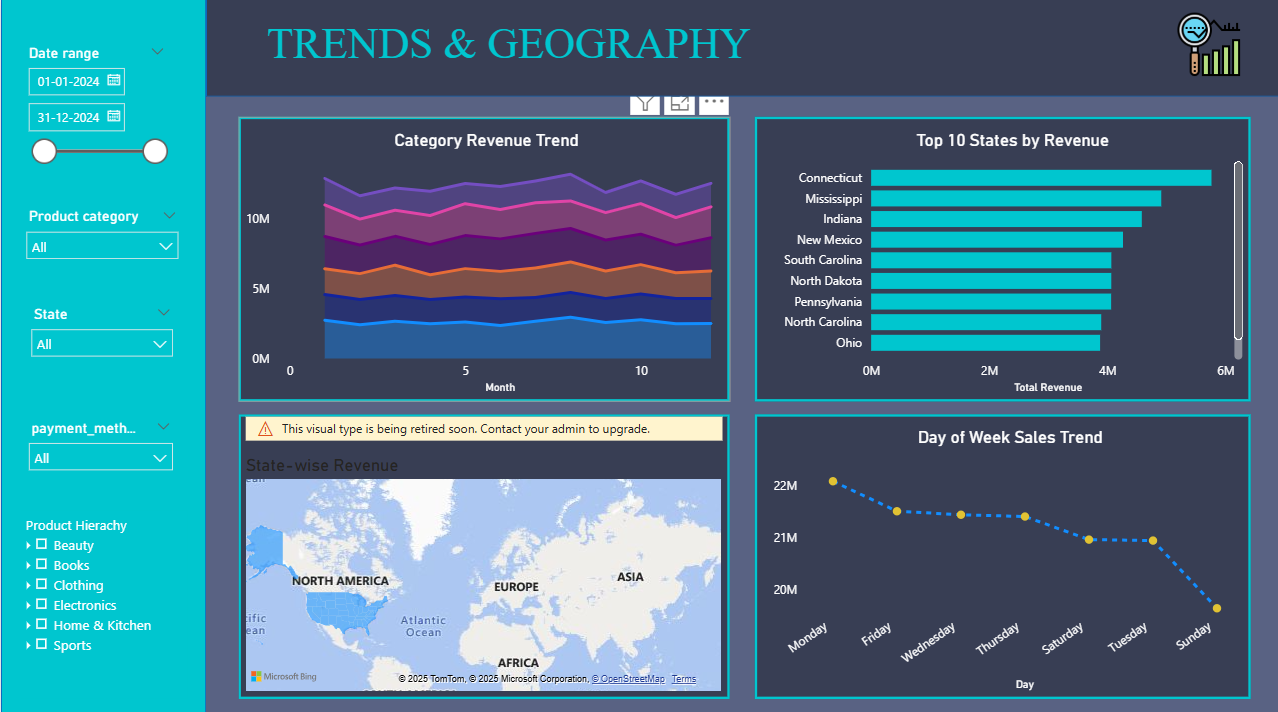

Layout of this report page (visuals, bound fields, positions):
{"tool":"powerbi","page":{"name":"Page 4","canvas":[1280,720],"ordinal":3},"visuals":[{"type":"shape","box":[0,0,205,720],"z":0},{"type":"textbox","box":[532.5,26.2,717.5,57.5],"z":1000},{"type":"filledMap","title":"State-wise Revenue","fields":{"Category":["warehouse dim_customers.state"],"Y":["warehouse fact_sales.Total Revenue"]},"box":[237.5,416.2,491.2,285],"z":2000},{"type":"clusteredBarChart","title":"Top 10 States by Revenue","fields":{"Category":["warehouse dim_customers.state"],"Y":["warehouse fact_sales.Total Revenue"]},"box":[753.8,118.8,496.2,285],"z":3000},{"type":"lineChart","title":"Day of Week Sales Trend","fields":{"Category":["warehouse dim_date.day_name"],"Y":["warehouse fact_sales.Total Revenue"]},"box":[753.8,416.2,496.2,285],"z":4000},{"type":"stackedAreaChart","title":"Category Revenue Trend","fields":{"Category":["warehouse dim_date.month"],"Series":["warehouse dim_products.category"],"Y":["warehouse fact_sales.Total Revenue"]},"box":[237.5,118.8,491.2,285],"z":5000},{"type":"slicer","title":"Date Range","fields":{"Values":["warehouse dim_date.full_date"]},"box":[14.5,41,160.5,155.6],"z":6000},{"type":"slicer","title":"State","fields":{"Values":["warehouse dim_customers.state"]},"box":[20.5,302.8,161.7,91.7],"z":7000},{"type":"slicer","title":"Product Category","fields":{"Values":["warehouse dim_products.category"]},"box":[14.5,205.1,172.5,112.2],"z":8000},{"type":"slicer","title":"Payment Method","fields":{"Values":["warehouse dim_payment_method.payment_method_name"]},"box":[18.1,416.2,164.1,96.5],"z":9000},{"type":"shape","box":[205,0,1075,98.8],"z":10000},{"type":"textbox","box":[228.8,16.2,792.5,67.5],"z":11000},{"type":"image","box":[1136.2,8.8,143.8,75],"z":12000},{"type":"HierarchySlicer1458836712039","fields":{"Fields":["warehouse dim_products.category","warehouse dim_products.sub_category","warehouse dim_products.product_name"]},"box":[20.5,512.7,166.5,188.2],"z":12001}]}

Visuals, with their boxes in screenshot pixels (x1, y1, x2, y2), scaled from the page's 1280x720 canvas onto the 1278x712 screenshot:
shape: detection(0, 0, 205, 711)
textbox: detection(532, 26, 1248, 83)
"State-wise Revenue" filledMap: detection(237, 412, 728, 693)
"Top 10 States by Revenue" clusteredBarChart: detection(753, 117, 1248, 399)
"Day of Week Sales Trend" lineChart: detection(753, 412, 1248, 693)
"Category Revenue Trend" stackedAreaChart: detection(237, 117, 728, 399)
"Date Range" slicer: detection(14, 41, 175, 194)
"State" slicer: detection(20, 299, 182, 390)
"Product Category" slicer: detection(14, 203, 187, 314)
"Payment Method" slicer: detection(18, 412, 182, 507)
shape: detection(205, 0, 1277, 98)
textbox: detection(228, 16, 1020, 83)
image: detection(1134, 9, 1277, 83)
HierarchySlicer1458836712039 - warehouse dim_products.category x warehouse dim_products.sub_category: detection(20, 507, 187, 693)
